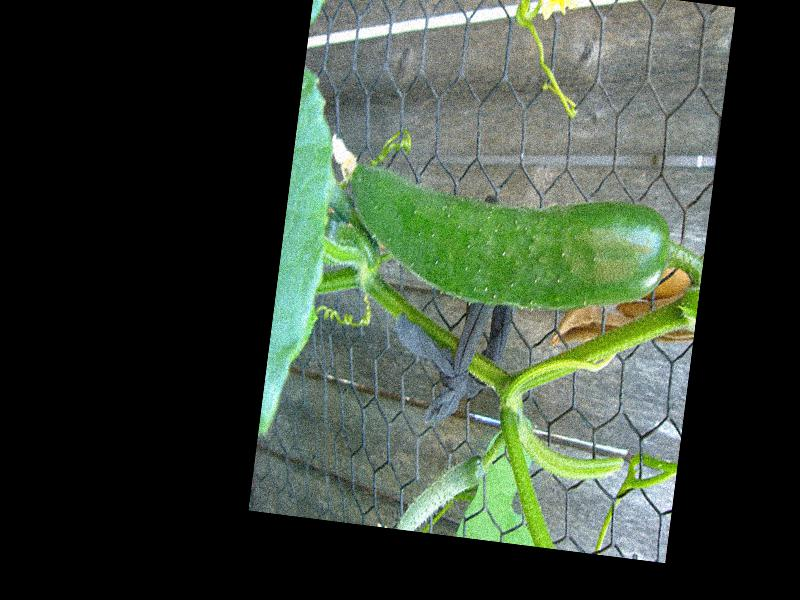Cucumber: (339, 161, 674, 327)
